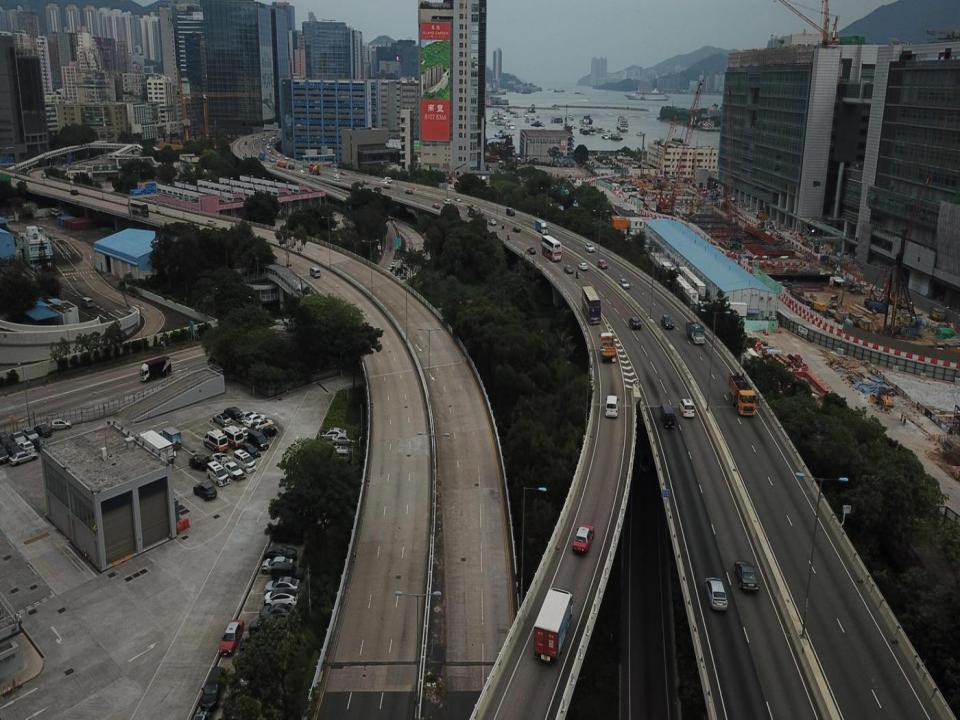bus: (582, 285, 601, 325), (541, 234, 563, 262), (127, 200, 149, 218)
car: (198, 663, 226, 710), (732, 557, 760, 595), (219, 619, 245, 656), (248, 616, 294, 636), (703, 575, 728, 610), (262, 588, 300, 608), (263, 576, 301, 596), (270, 560, 306, 581), (259, 601, 296, 620), (200, 429, 228, 453), (573, 524, 595, 554), (206, 461, 230, 487), (246, 425, 270, 450), (262, 555, 294, 573), (234, 448, 257, 473), (192, 480, 218, 502), (265, 544, 297, 561), (240, 411, 266, 430), (8, 450, 38, 466), (221, 426, 244, 446), (603, 393, 620, 418), (210, 452, 230, 472), (331, 430, 357, 445), (678, 397, 696, 418), (188, 452, 207, 471), (224, 460, 242, 480), (320, 427, 347, 440), (327, 448, 351, 462), (249, 418, 273, 430), (10, 429, 26, 447), (34, 422, 52, 438), (50, 418, 72, 431), (627, 312, 642, 331), (212, 412, 232, 426), (17, 440, 34, 456), (21, 424, 37, 439), (0, 428, 11, 448), (239, 410, 258, 421), (661, 312, 673, 329), (30, 436, 44, 450), (0, 442, 9, 463), (576, 260, 590, 273), (618, 276, 629, 290), (597, 258, 608, 269), (505, 206, 516, 216), (585, 242, 595, 252), (563, 265, 574, 274), (527, 246, 537, 255), (512, 225, 521, 233), (430, 203, 440, 210), (70, 187, 78, 195), (453, 196, 461, 204), (489, 217, 496, 225), (405, 188, 412, 195), (412, 185, 419, 192), (380, 179, 388, 185), (373, 186, 381, 192), (340, 171, 348, 177), (444, 198, 450, 205), (333, 176, 340, 182), (382, 185, 390, 190), (41, 172, 47, 178), (362, 179, 368, 185), (298, 169, 304, 175), (332, 173, 339, 178), (269, 157, 274, 163)
truck: (533, 588, 574, 665), (134, 428, 175, 474), (728, 370, 759, 417), (139, 354, 170, 383), (159, 425, 182, 452), (598, 332, 616, 362), (685, 320, 706, 344), (535, 218, 548, 234), (466, 204, 482, 217), (308, 164, 320, 176), (276, 160, 286, 168), (257, 152, 267, 160)
van: (659, 403, 677, 430), (309, 266, 320, 278), (287, 163, 294, 169)
